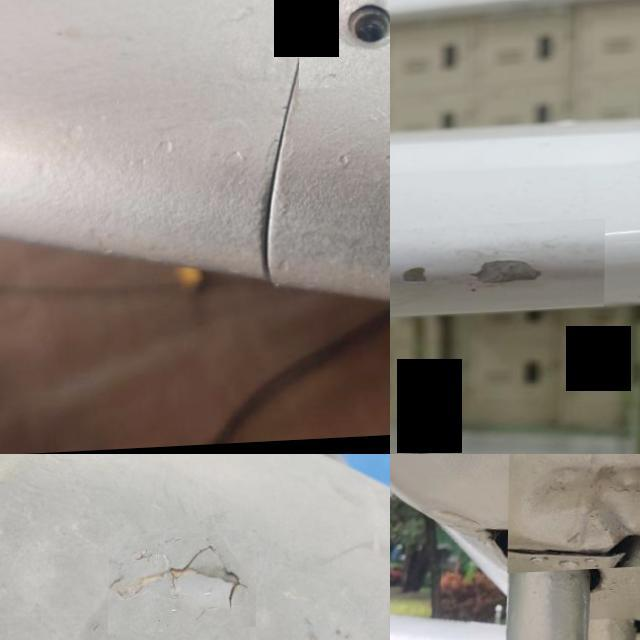Crack: (390, 224, 605, 331), (109, 534, 258, 637)
Dent: (508, 454, 640, 575)
Missing_Fastener: (299, 0, 390, 92)
